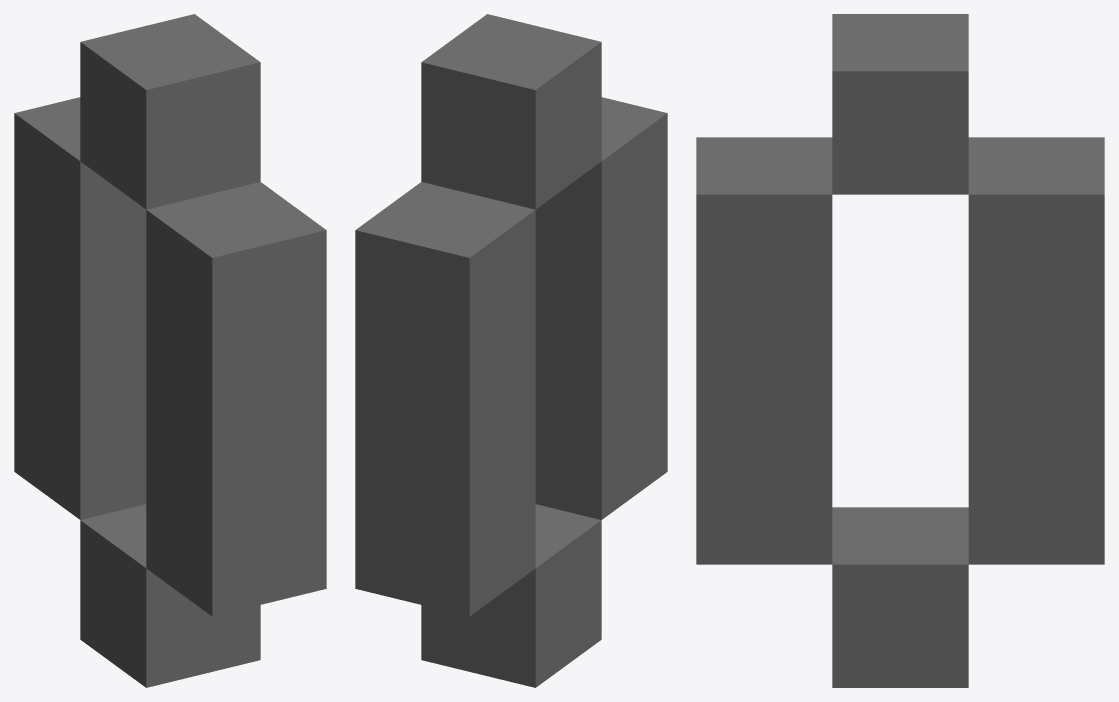
The model's file is corrente.obj.
3 renders of one model, left to right at view 1: azimuth 30°, elevation 25°; view 2: azimuth 150°, elevation 25°; view 3: azimuth 270°, elevation 25°, orthographic. The views are drawn at different scales.
Parts seen in each view (by area): view 1: corrente; view 2: corrente; view 3: corrente.
Part boxes in pixels (<box>): corrente: <box>14,14,326,687</box>; corrente: <box>355,14,667,687</box>; corrente: <box>696,14,1104,687</box>.
Bounding box in the file's own units: 1 × 5 × 3.
1 material, 1 textured.
